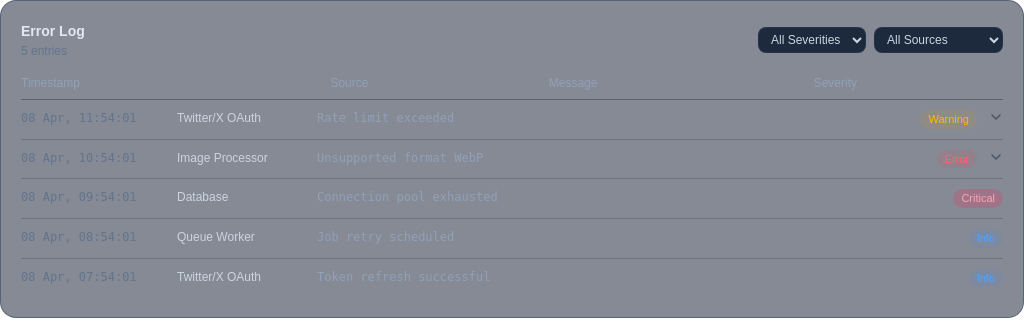
Scenario: ErrorLog › combines severity and source filters
Step 1. Select "Info" in the dropdown named "Filter by severity" → x=812, y=40, box [758, 27, 866, 53]
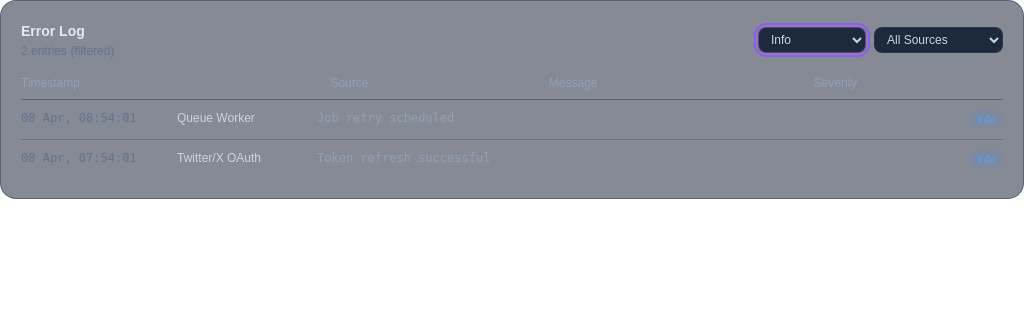
Step 2. Select "Twitter/X OAuth" in the dropdown named "Filter by source" → x=938, y=40, box [874, 27, 1003, 53]
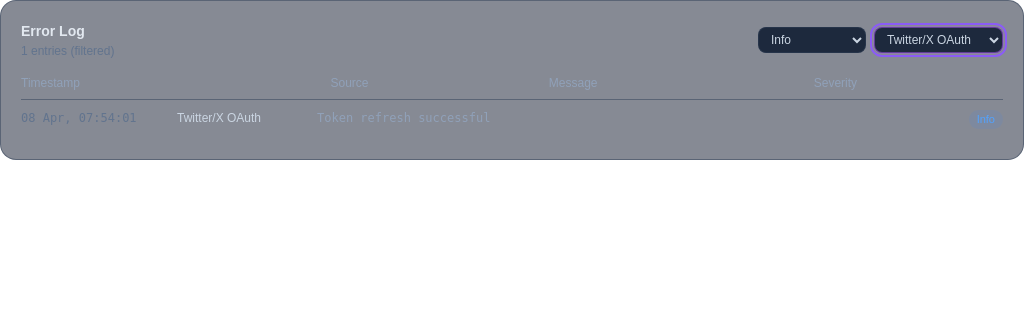
Expected: the text "Token refresh successful" is shown, [317, 111, 490, 125]
Now the button "Job retry scheduled" is gone
